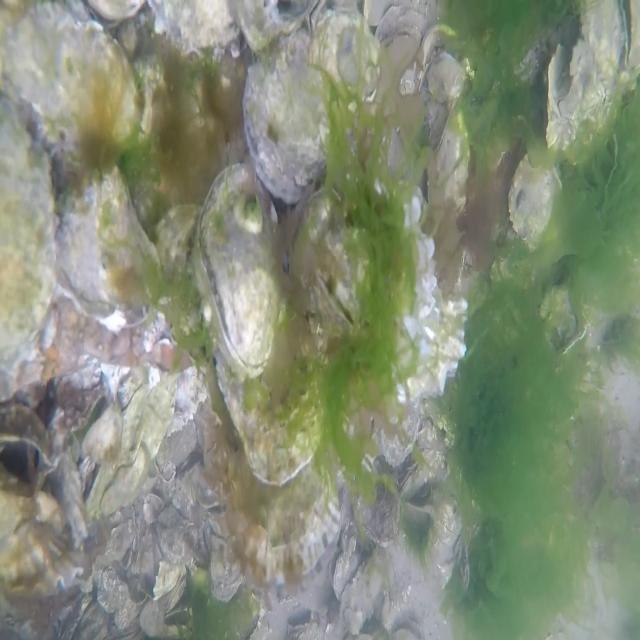Oyster-Closed: (243, 6, 379, 203), (0, 0, 141, 144), (193, 161, 282, 381), (54, 162, 163, 331), (0, 106, 59, 393), (506, 146, 556, 256), (433, 99, 469, 211), (399, 457, 428, 498)
Oyster-Indeterminate: (288, 185, 468, 401), (213, 273, 331, 487), (224, 407, 341, 578), (88, 374, 174, 509), (545, 0, 621, 148), (0, 524, 86, 595), (0, 469, 64, 544), (358, 453, 402, 547), (422, 23, 466, 106), (210, 514, 244, 604), (342, 558, 386, 627), (378, 402, 420, 466)
Oyster-Open: (0, 401, 53, 495), (328, 540, 358, 602), (616, 0, 640, 76), (378, 24, 419, 65), (403, 484, 433, 522)
